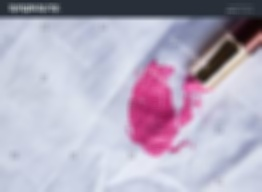lipstick: (124, 62, 200, 155)
